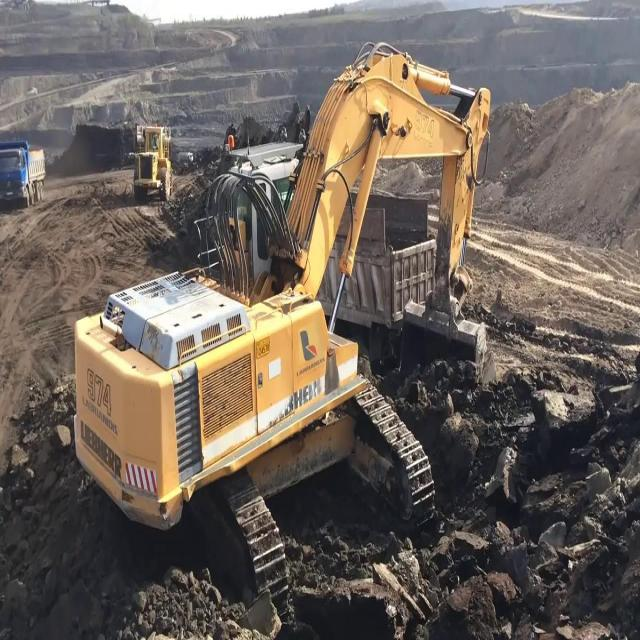Dump Truck: (322, 194, 436, 358), (0, 140, 46, 208)
Excavator: (70, 39, 491, 639)
Loader: (132, 123, 172, 198)
